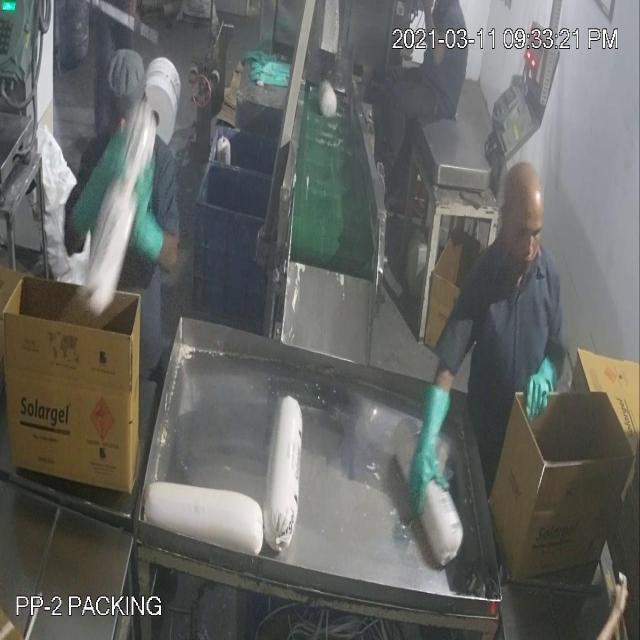Gloves: (399, 374, 461, 531)
